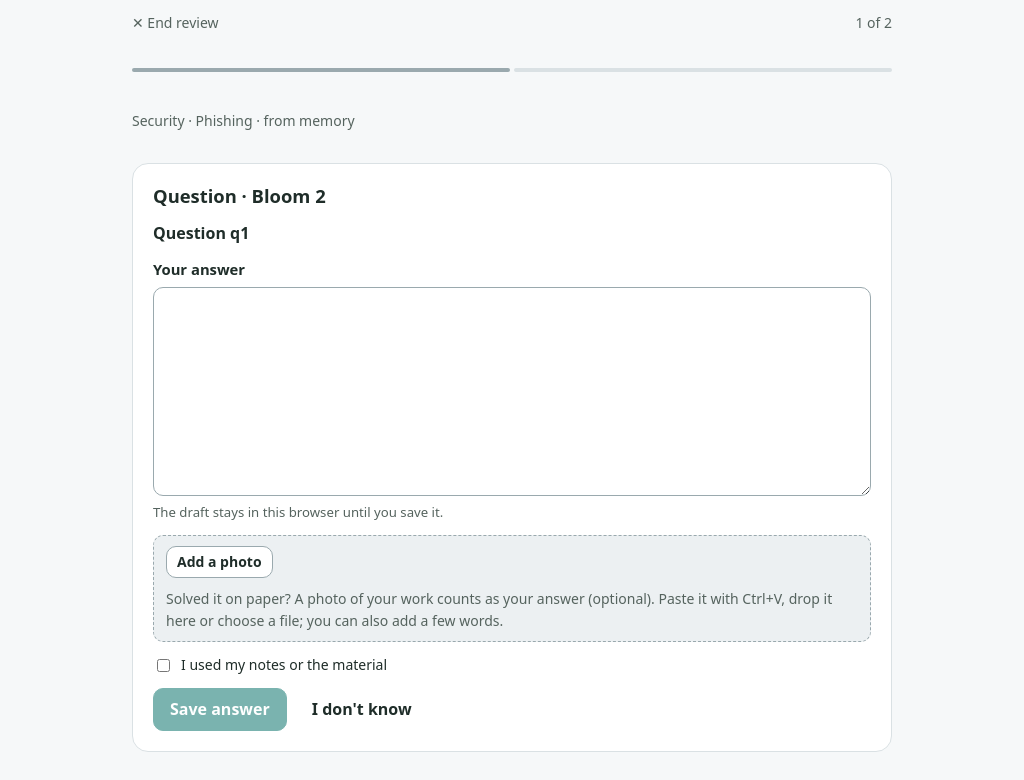
Review now (2026-11-27) › asks each due concept from memory, then sums up and offers grading in one go
Expected: the text "1 of 2" is shown, [855,12,892,34]
Expected: the text "Security · Phishing · from memory" is shown, [132,111,355,130]
Type "Fake mail that asks for a password." into the text box labelled "Your answer" at [512, 392], box [153,287,871,496]
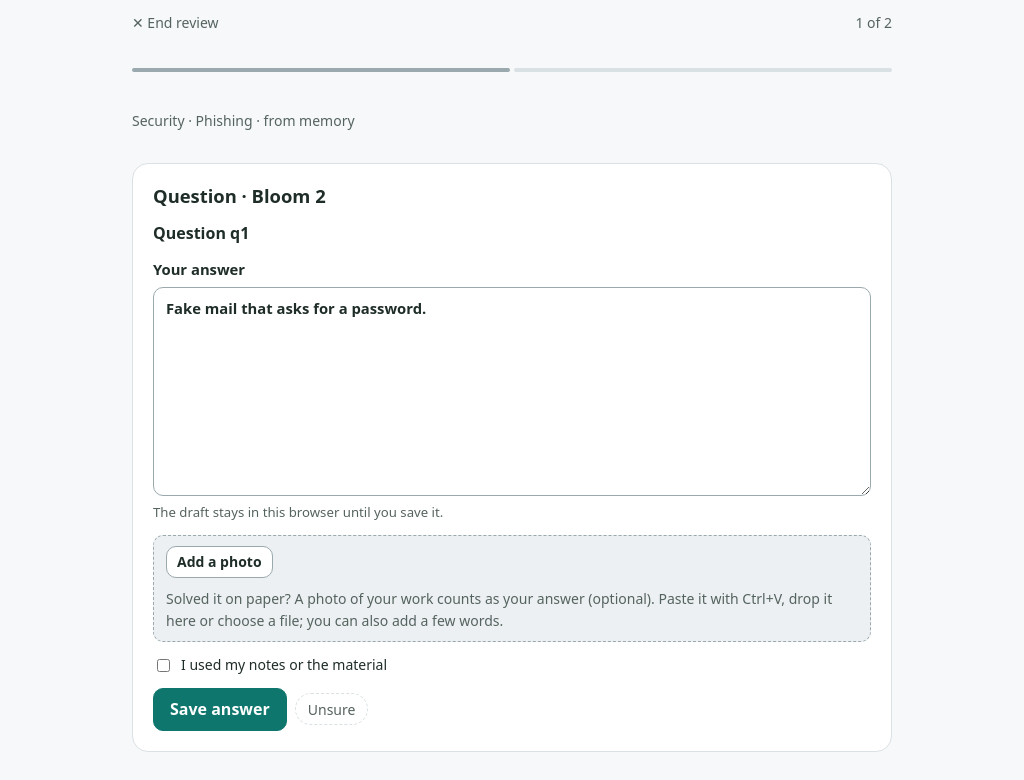
Click the button "Unsure" at [332, 709], box [295,693,368,725]
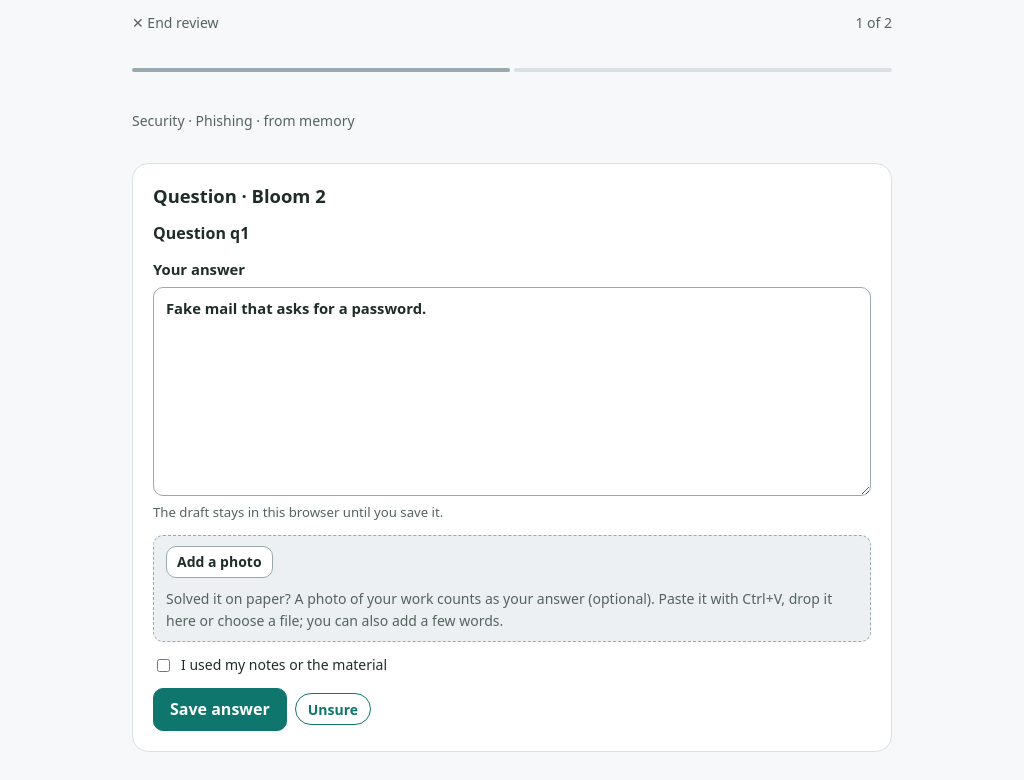
Click the button "Save answer" at [220, 709], box [153,688,287,731]
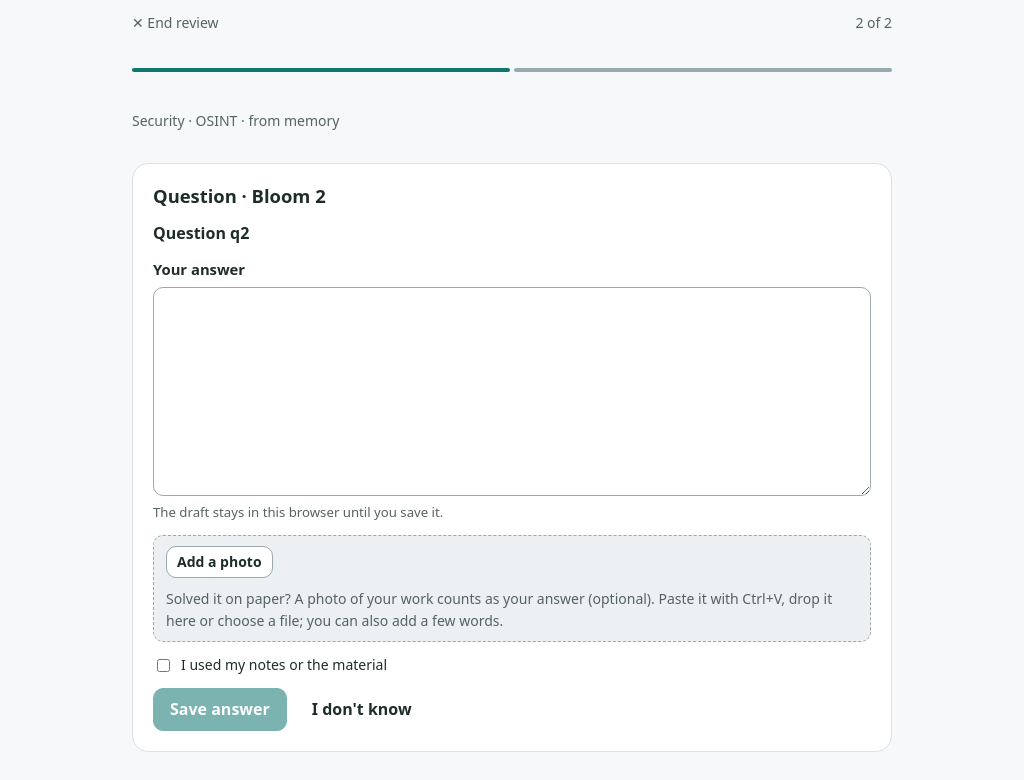
Expected: the text "2 of 2" is shown, [855,12,892,34]
Expected: the text "Question q2" is shown, [153,222,249,244]
Click the button "I don't know" at [362, 709], box [295,688,429,731]
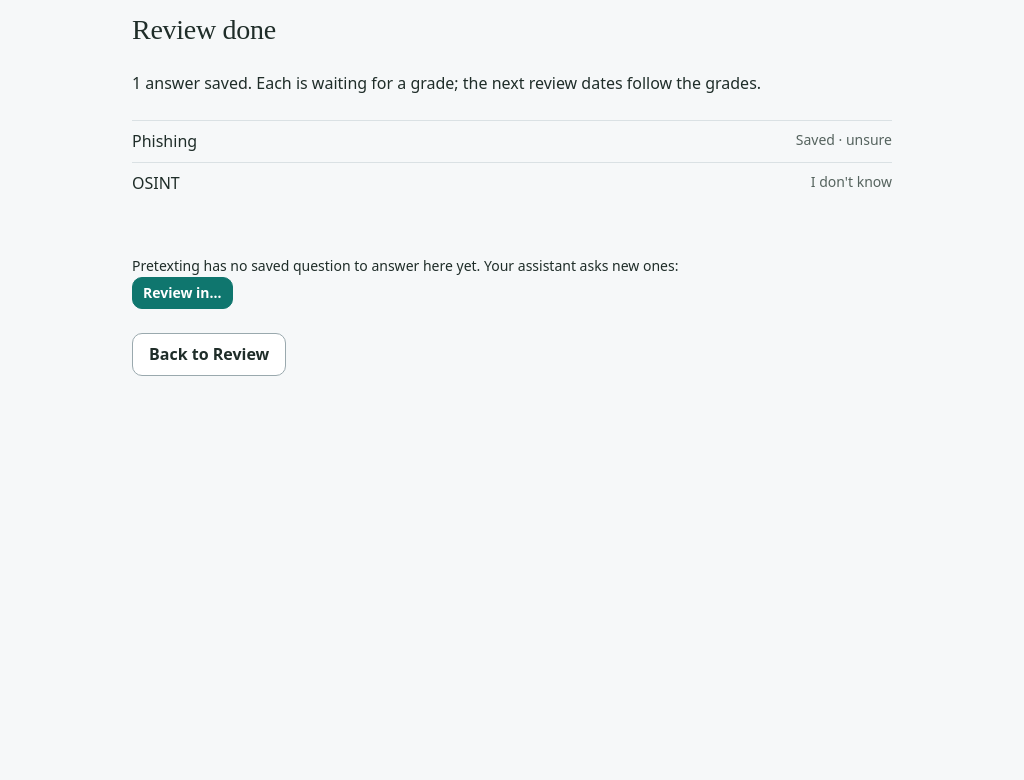
Expected: the heading "Review done" is shown, [132,12,276,47]
Expected: the text "1 answer saved. Each is waiting for a grade" is shown, [132,72,761,94]
Expected: the text "Saved · unsure" is shown, [796,129,892,154]
